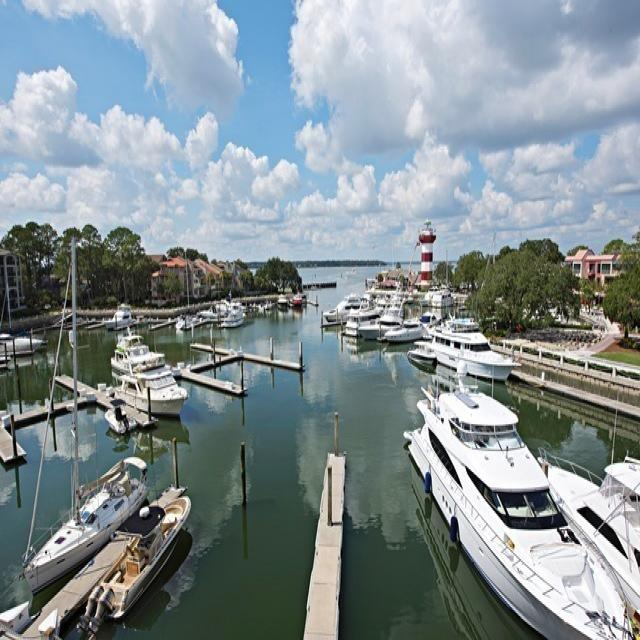houseboat: (390, 365, 636, 639), (113, 324, 184, 418), (426, 325, 516, 392)
